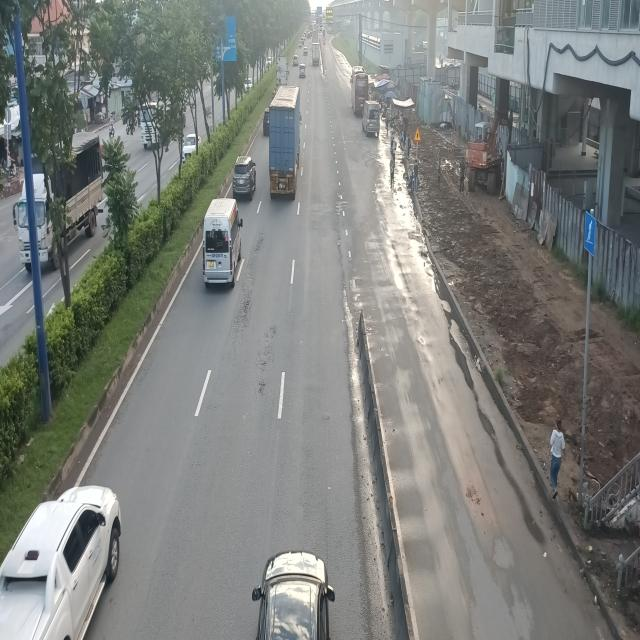car: (0, 488, 119, 640), (252, 551, 335, 640), (233, 155, 258, 200)
coach: (350, 70, 370, 117)
container: (268, 83, 300, 199)
van: (202, 196, 244, 288), (363, 103, 381, 140)
